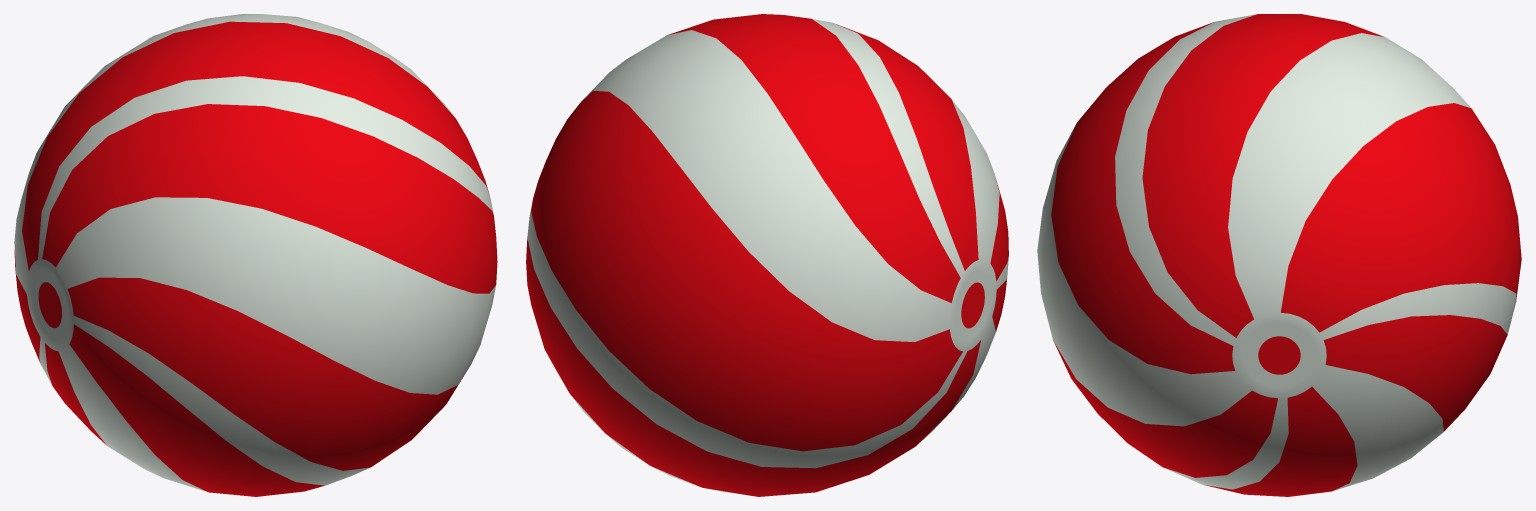
File: JUGADOR.fbx
3 renders of one model, left to right at view 1: azimuth 30°, elevation 25°; view 2: azimuth 150°, elevation 25°; view 3: azimuth 270°, elevation 25°, orthographic.
Visible parts, largest first — view 1: Jugador; view 2: Jugador; view 3: Jugador.
Part boxes in pixels (x1,y1,x2,y2): Jugador: (14, 14, 497, 496); Jugador: (526, 14, 1008, 496); Jugador: (1037, 14, 1521, 496).
Bounding box in the file's own units: 935 × 953 × 953.
